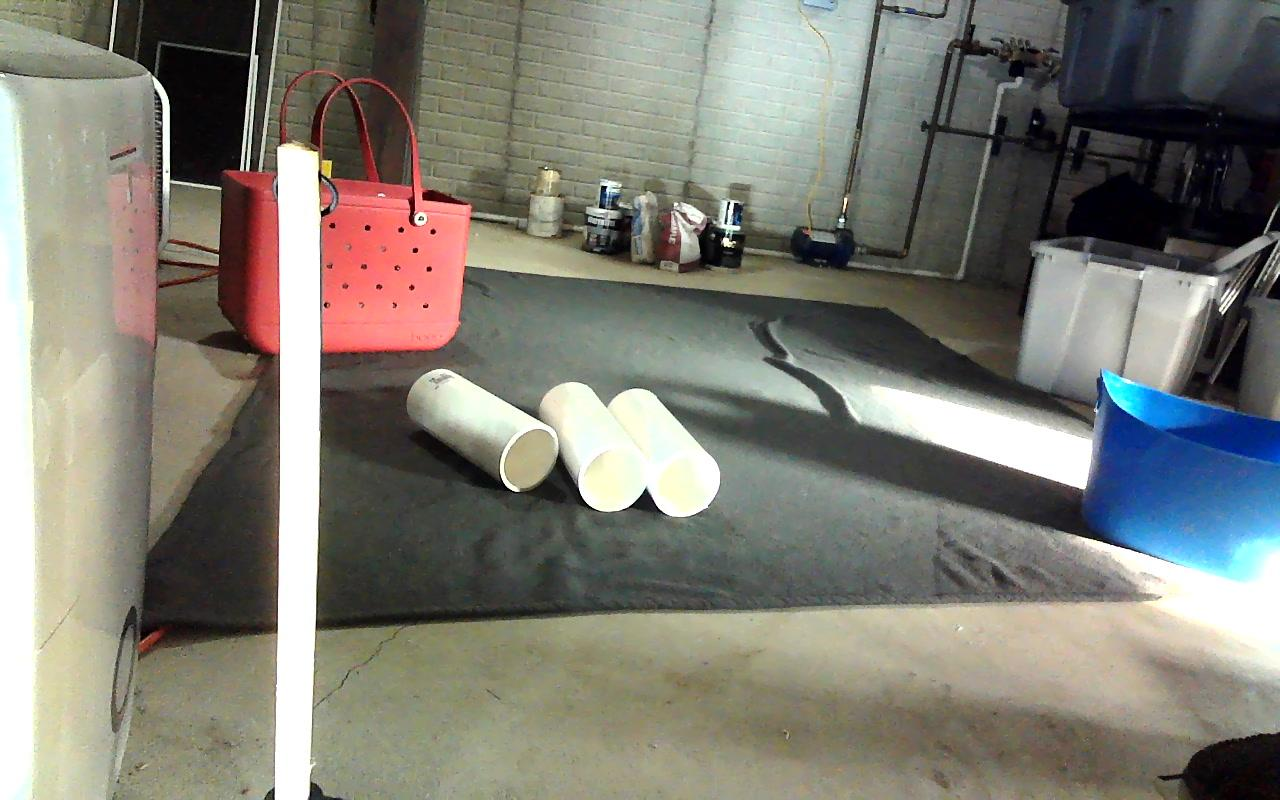coral: (406, 368, 557, 491), (541, 381, 647, 512), (611, 388, 720, 515)
